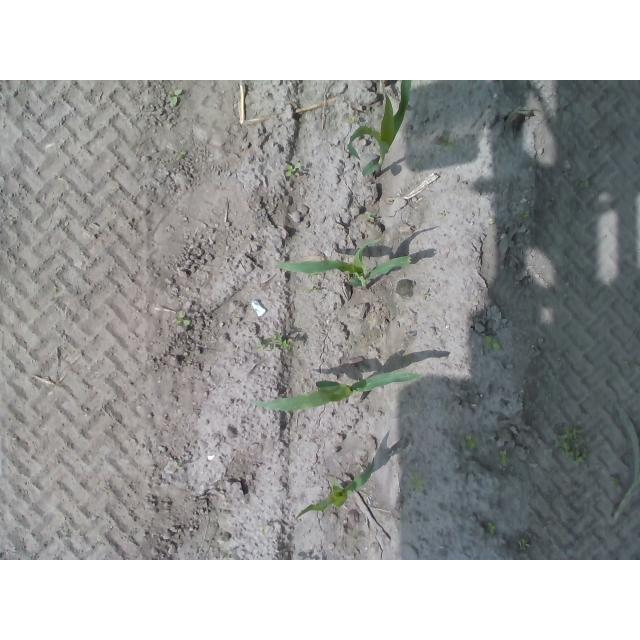Maize: (276, 233, 412, 291), (253, 368, 423, 412), (344, 80, 415, 182), (295, 457, 376, 527)
Weeds: (556, 423, 588, 465), (254, 333, 290, 352), (459, 432, 481, 450), (482, 335, 503, 353), (281, 160, 304, 176), (174, 309, 192, 329), (169, 88, 183, 108), (406, 472, 423, 488), (441, 135, 456, 150), (498, 447, 510, 465), (575, 179, 592, 190), (486, 521, 496, 535), (515, 536, 528, 546), (347, 115, 358, 124), (519, 210, 530, 218), (175, 152, 186, 160), (367, 215, 375, 224)
